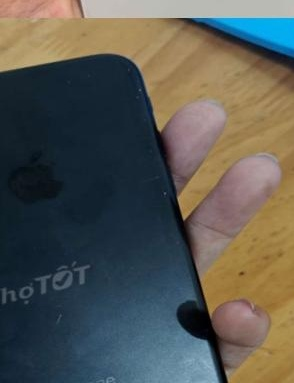scratch: (56, 44, 178, 222), (186, 342, 223, 376), (39, 302, 70, 329), (122, 374, 160, 383)
